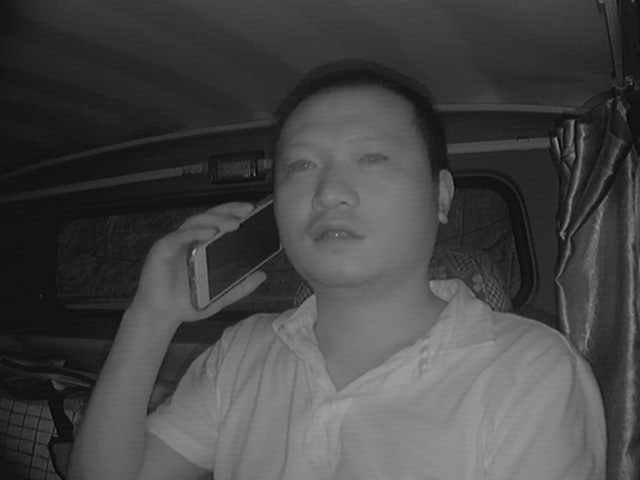hand: (126, 199, 261, 326)
